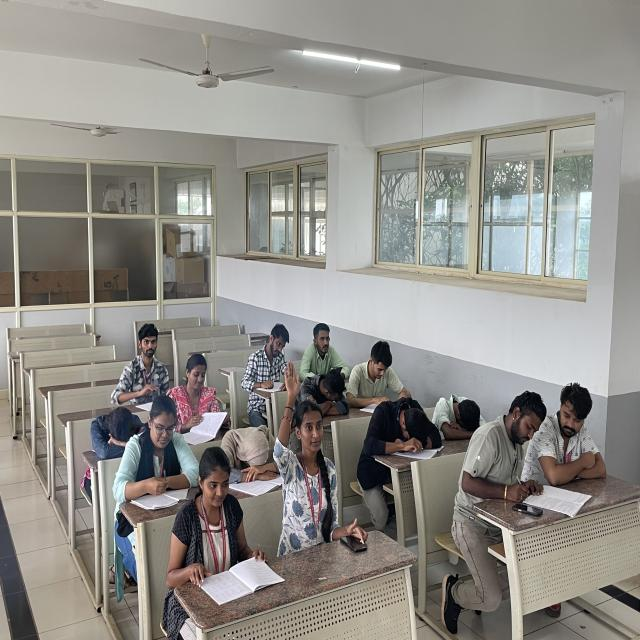Hand Rising: (278, 360, 333, 538)
Reading: (242, 312, 294, 419), (347, 327, 406, 419), (178, 342, 229, 439)
Sleeping: (366, 390, 442, 471), (218, 400, 286, 490), (83, 400, 145, 461), (424, 388, 492, 442), (300, 366, 357, 422)
Writing: (479, 392, 562, 504), (130, 395, 200, 506)
